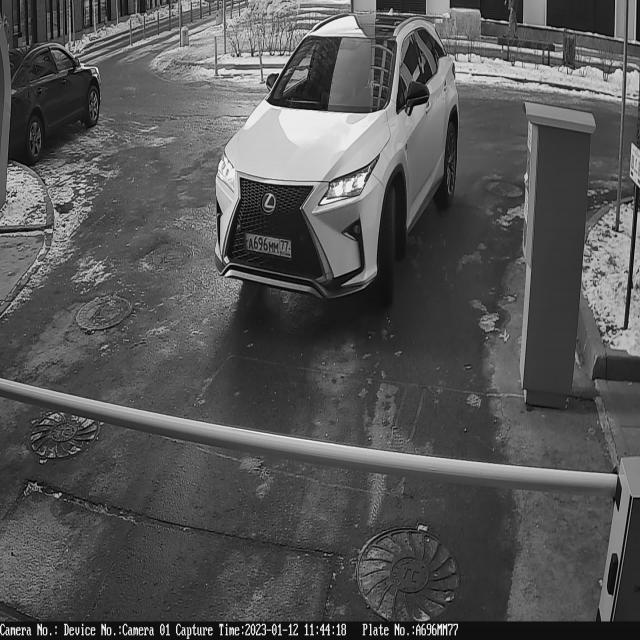car-plate-numbers: (242, 227, 296, 265)
